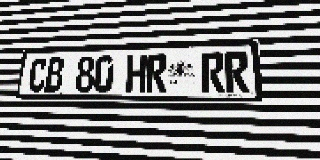0: (93, 56, 114, 92)
8: (75, 56, 96, 92)
B: (44, 57, 65, 92)
C: (28, 58, 48, 92)
H: (126, 55, 147, 92)
R: (225, 51, 249, 93), (202, 52, 225, 93), (146, 54, 167, 93)
